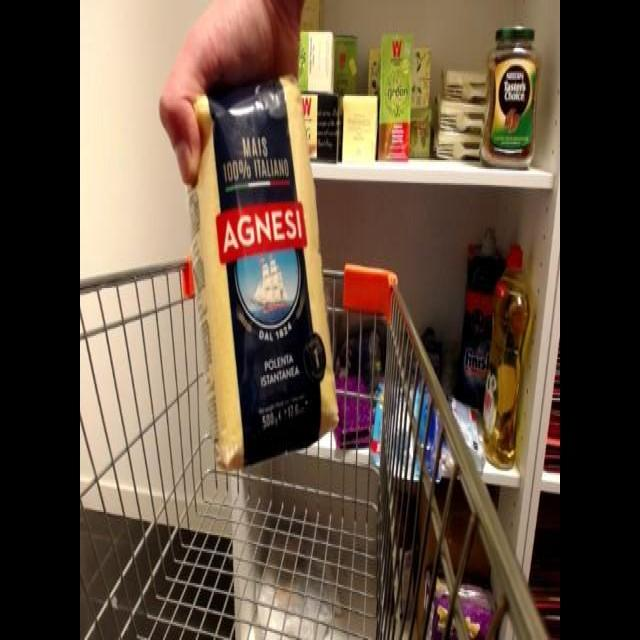Agnesi Polenta: (180, 72, 335, 474)
